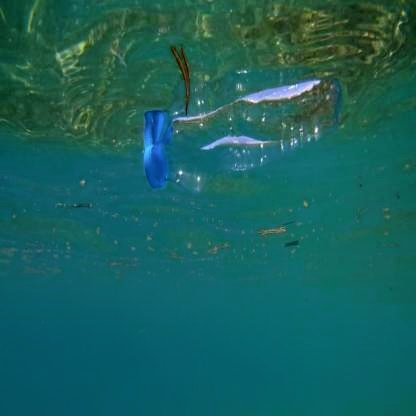pbottle: (141, 75, 346, 218)
